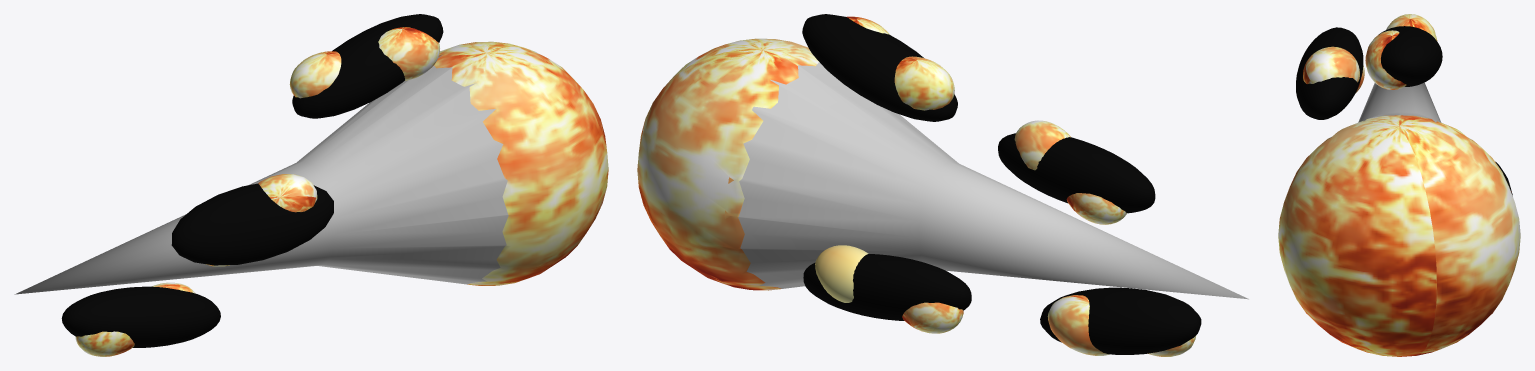
File: Projectile 1.fbx
3 renders of one model, left to right at view 1: azimuth 30°, elevation 25°; view 2: azimuth 150°, elevation 25°; view 3: azimuth 270°, elevation 25°, orthographic. The views are drawn at different scales.
Visible parts, largest first — view 1: polySurface1, pasted__pSphere3, pasted__pasted__pSphere3, pSphere3, pasted__pasted__pSphere4 (×2), pasted__pSphere4, pSphere4; view 2: polySurface1, pasted__pSphere3 (×2), pSphere3, pasted__pasted__pSphere3, pasted__pasted__pSphere4 (×2), pasted__pSphere4 (×2), pSphere4, pasted__pasted__pasted__pSphere4; view 3: polySurface1, pasted__pSphere3, pSphere3, pasted__pasted__pSphere4, pasted__pSphere4, pSphere4.
Boxes of the visible parts, x1,y1,x2,y2 form: polySurface1: (14, 41, 608, 294); pasted__pSphere3: (171, 183, 333, 265); pasted__pasted__pSphere3: (61, 286, 220, 347); pSphere3: (292, 14, 443, 118); pasted__pasted__pSphere4 (×2): (75, 174, 317, 356); pasted__pSphere4: (378, 27, 439, 80); pSphere4: (289, 51, 341, 98); polySurface1: (637, 38, 1248, 299); pasted__pSphere3 (×2): (803, 133, 1155, 320); pSphere3: (802, 14, 957, 121); pasted__pasted__pSphere3: (1040, 287, 1201, 354); pasted__pasted__pSphere4 (×2): (815, 120, 1070, 302); pasted__pSphere4 (×2): (902, 193, 1126, 333); pSphere4: (894, 56, 954, 110); pasted__pasted__pasted__pSphere4: (1047, 295, 1109, 355); polySurface1: (1278, 82, 1520, 356); pasted__pSphere3: (1296, 27, 1363, 119); pSphere3: (1378, 26, 1442, 86); pasted__pasted__pSphere4: (1303, 46, 1359, 83); pasted__pSphere4: (1365, 30, 1406, 89); pSphere4: (1386, 14, 1437, 40).
Size of the model in its own units: 14.93 by 6.71 by 5.47.
